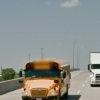Bus: (18, 57, 75, 100)
